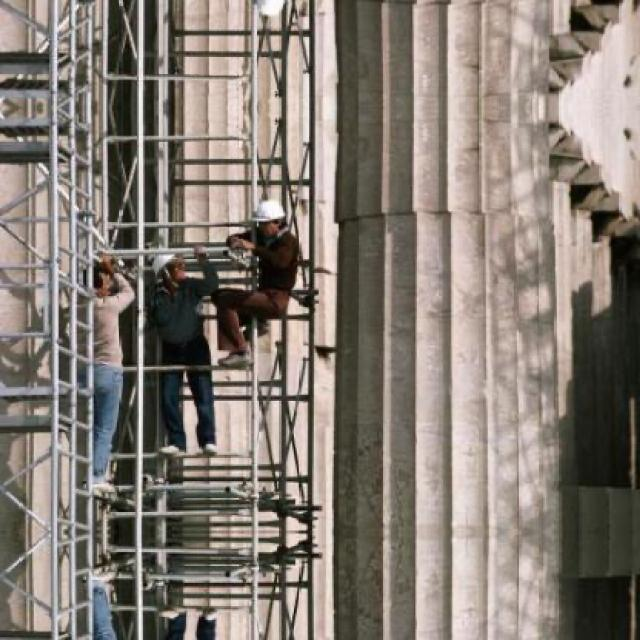con casco: (250, 184, 294, 246), (144, 243, 207, 280)
